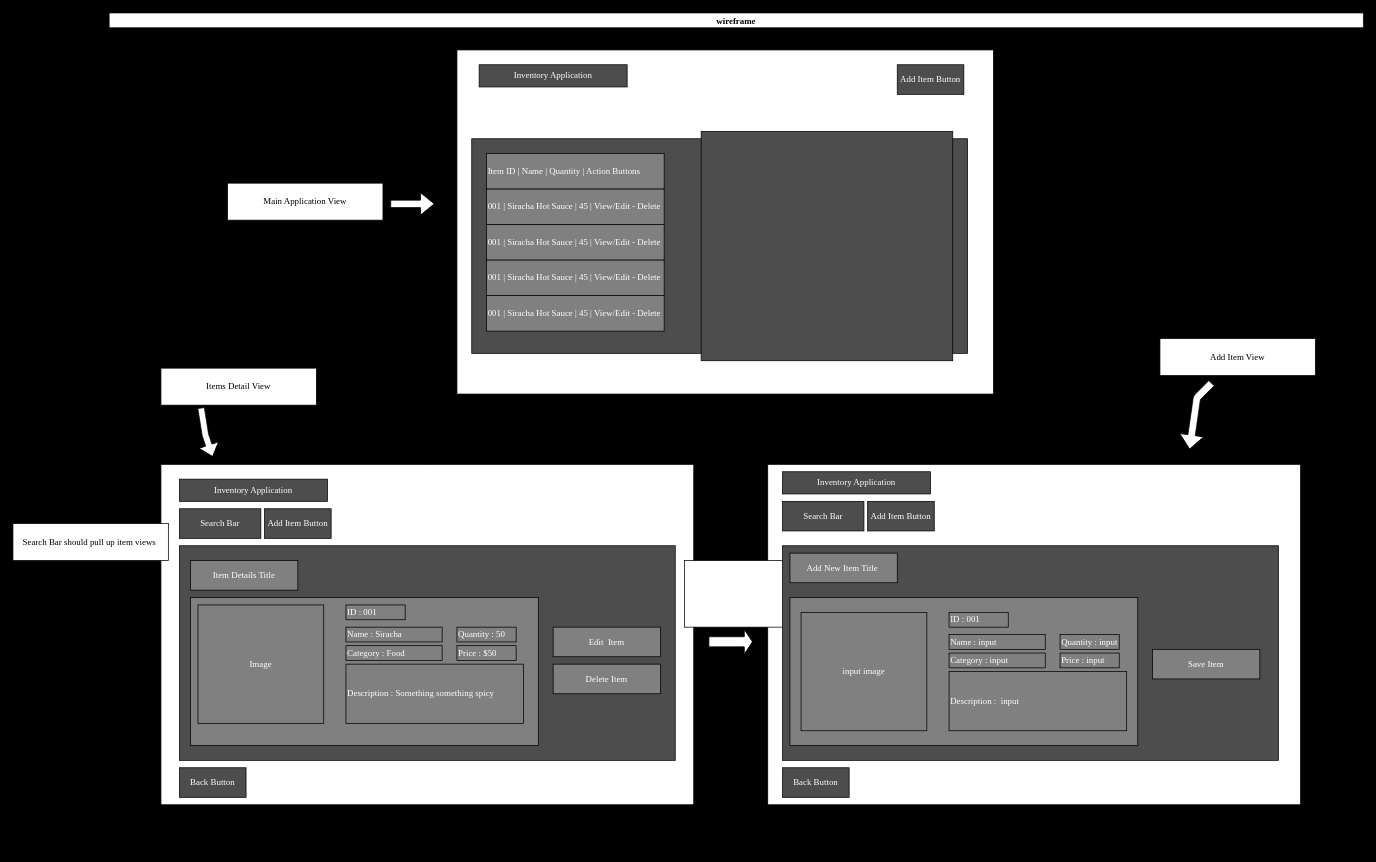
Image size: 1376x862. Some labels were removed from this diagram. The shapes that lost their labels are listed below. From the top down, each one's centre as x and y in pixels, then its label:
point (826, 246): IMAGE / NAME / DESCRIPTION
point (733, 593): Edit items can shift to the add new items page with filled out details
